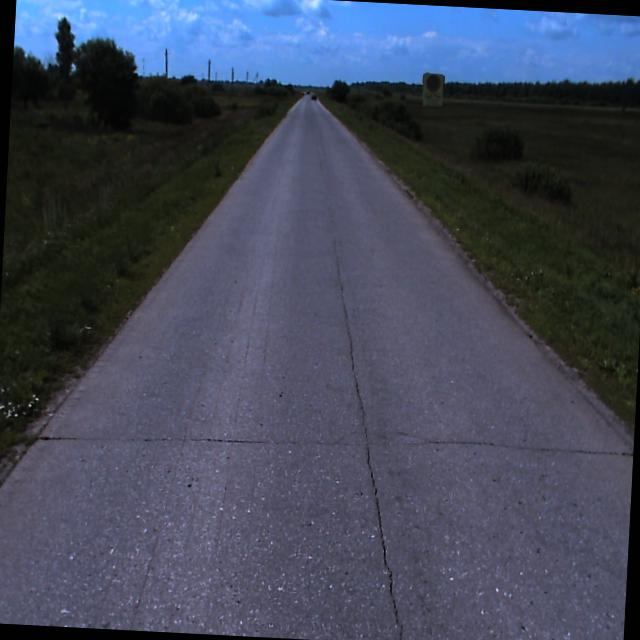road: (0, 94, 633, 640)
